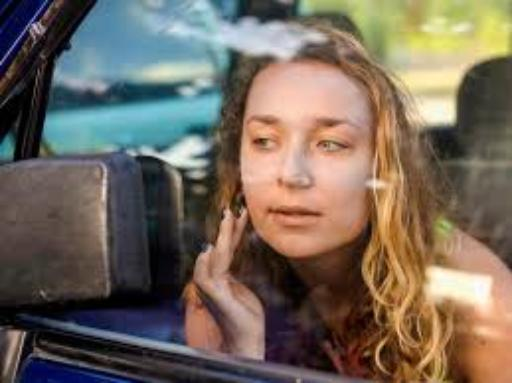left_eye: (314, 140, 353, 155)
left_lip_corner: (314, 210, 330, 222)
right_eye: (252, 137, 280, 152)
right_lip_corner: (266, 208, 281, 221)
